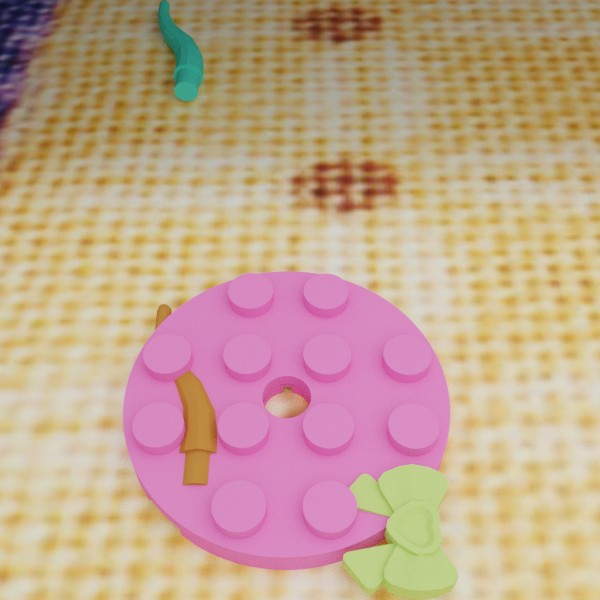lego: (122, 271, 450, 570), (340, 464, 458, 600), (154, 303, 221, 497), (157, 0, 203, 100)
